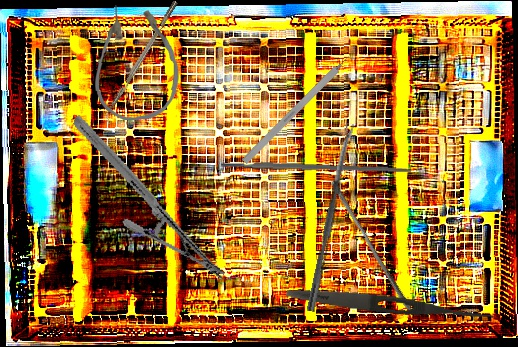Cannula: (92, 3, 181, 121)
Chopper: (100, 0, 184, 125)
Dressing Forceps: (285, 284, 497, 325)
Hook Surgical: (241, 45, 361, 165)
Needle Holder: (41, 114, 257, 282)
Pusher: (325, 179, 418, 312)
Scalpel Handle: (220, 159, 412, 175)
Surgical Spoon: (306, 122, 356, 313)
